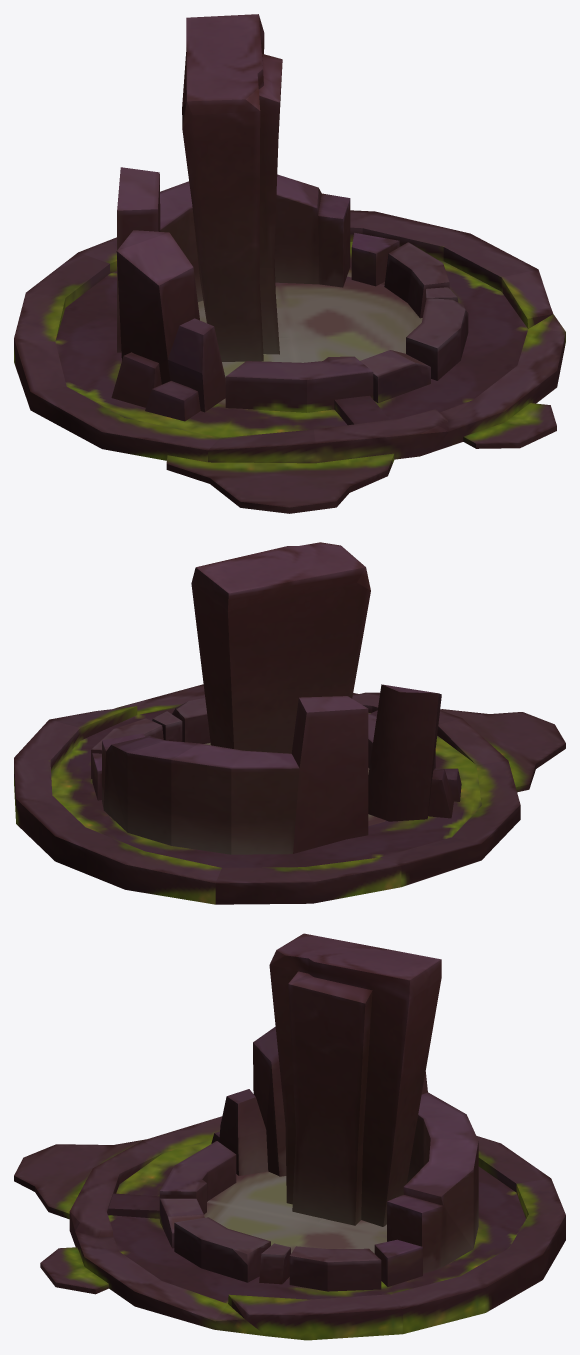
Rendered from shenshi.FBX.
3 renders of one model, top to bottom at view 1: azimuth 30°, elevation 25°; view 2: azimuth 150°, elevation 25°; view 3: azimuth 270°, elevation 25°, orthographic. The views are drawn at different scales.
Visible parts, largest first — view 1: shenshi; view 2: shenshi; view 3: shenshi.
Part boxes in pixels (left/top/right/bottom): shenshi: left=14, top=14, right=565, bottom=513; shenshi: left=14, top=542, right=565, bottom=904; shenshi: left=14, top=933, right=565, bottom=1340.
Size of the model in its own units: 13.27 by 7.55 by 14.33.
